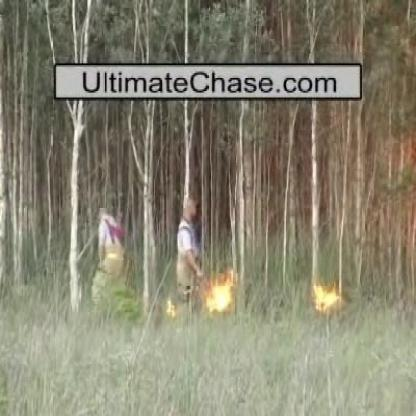fire: (160, 229, 250, 332), (294, 247, 359, 327)
